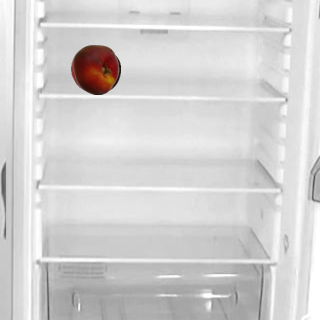Apple Braeburn: (70, 44, 120, 94)
Nectarine Flat: (70, 44, 120, 94)
